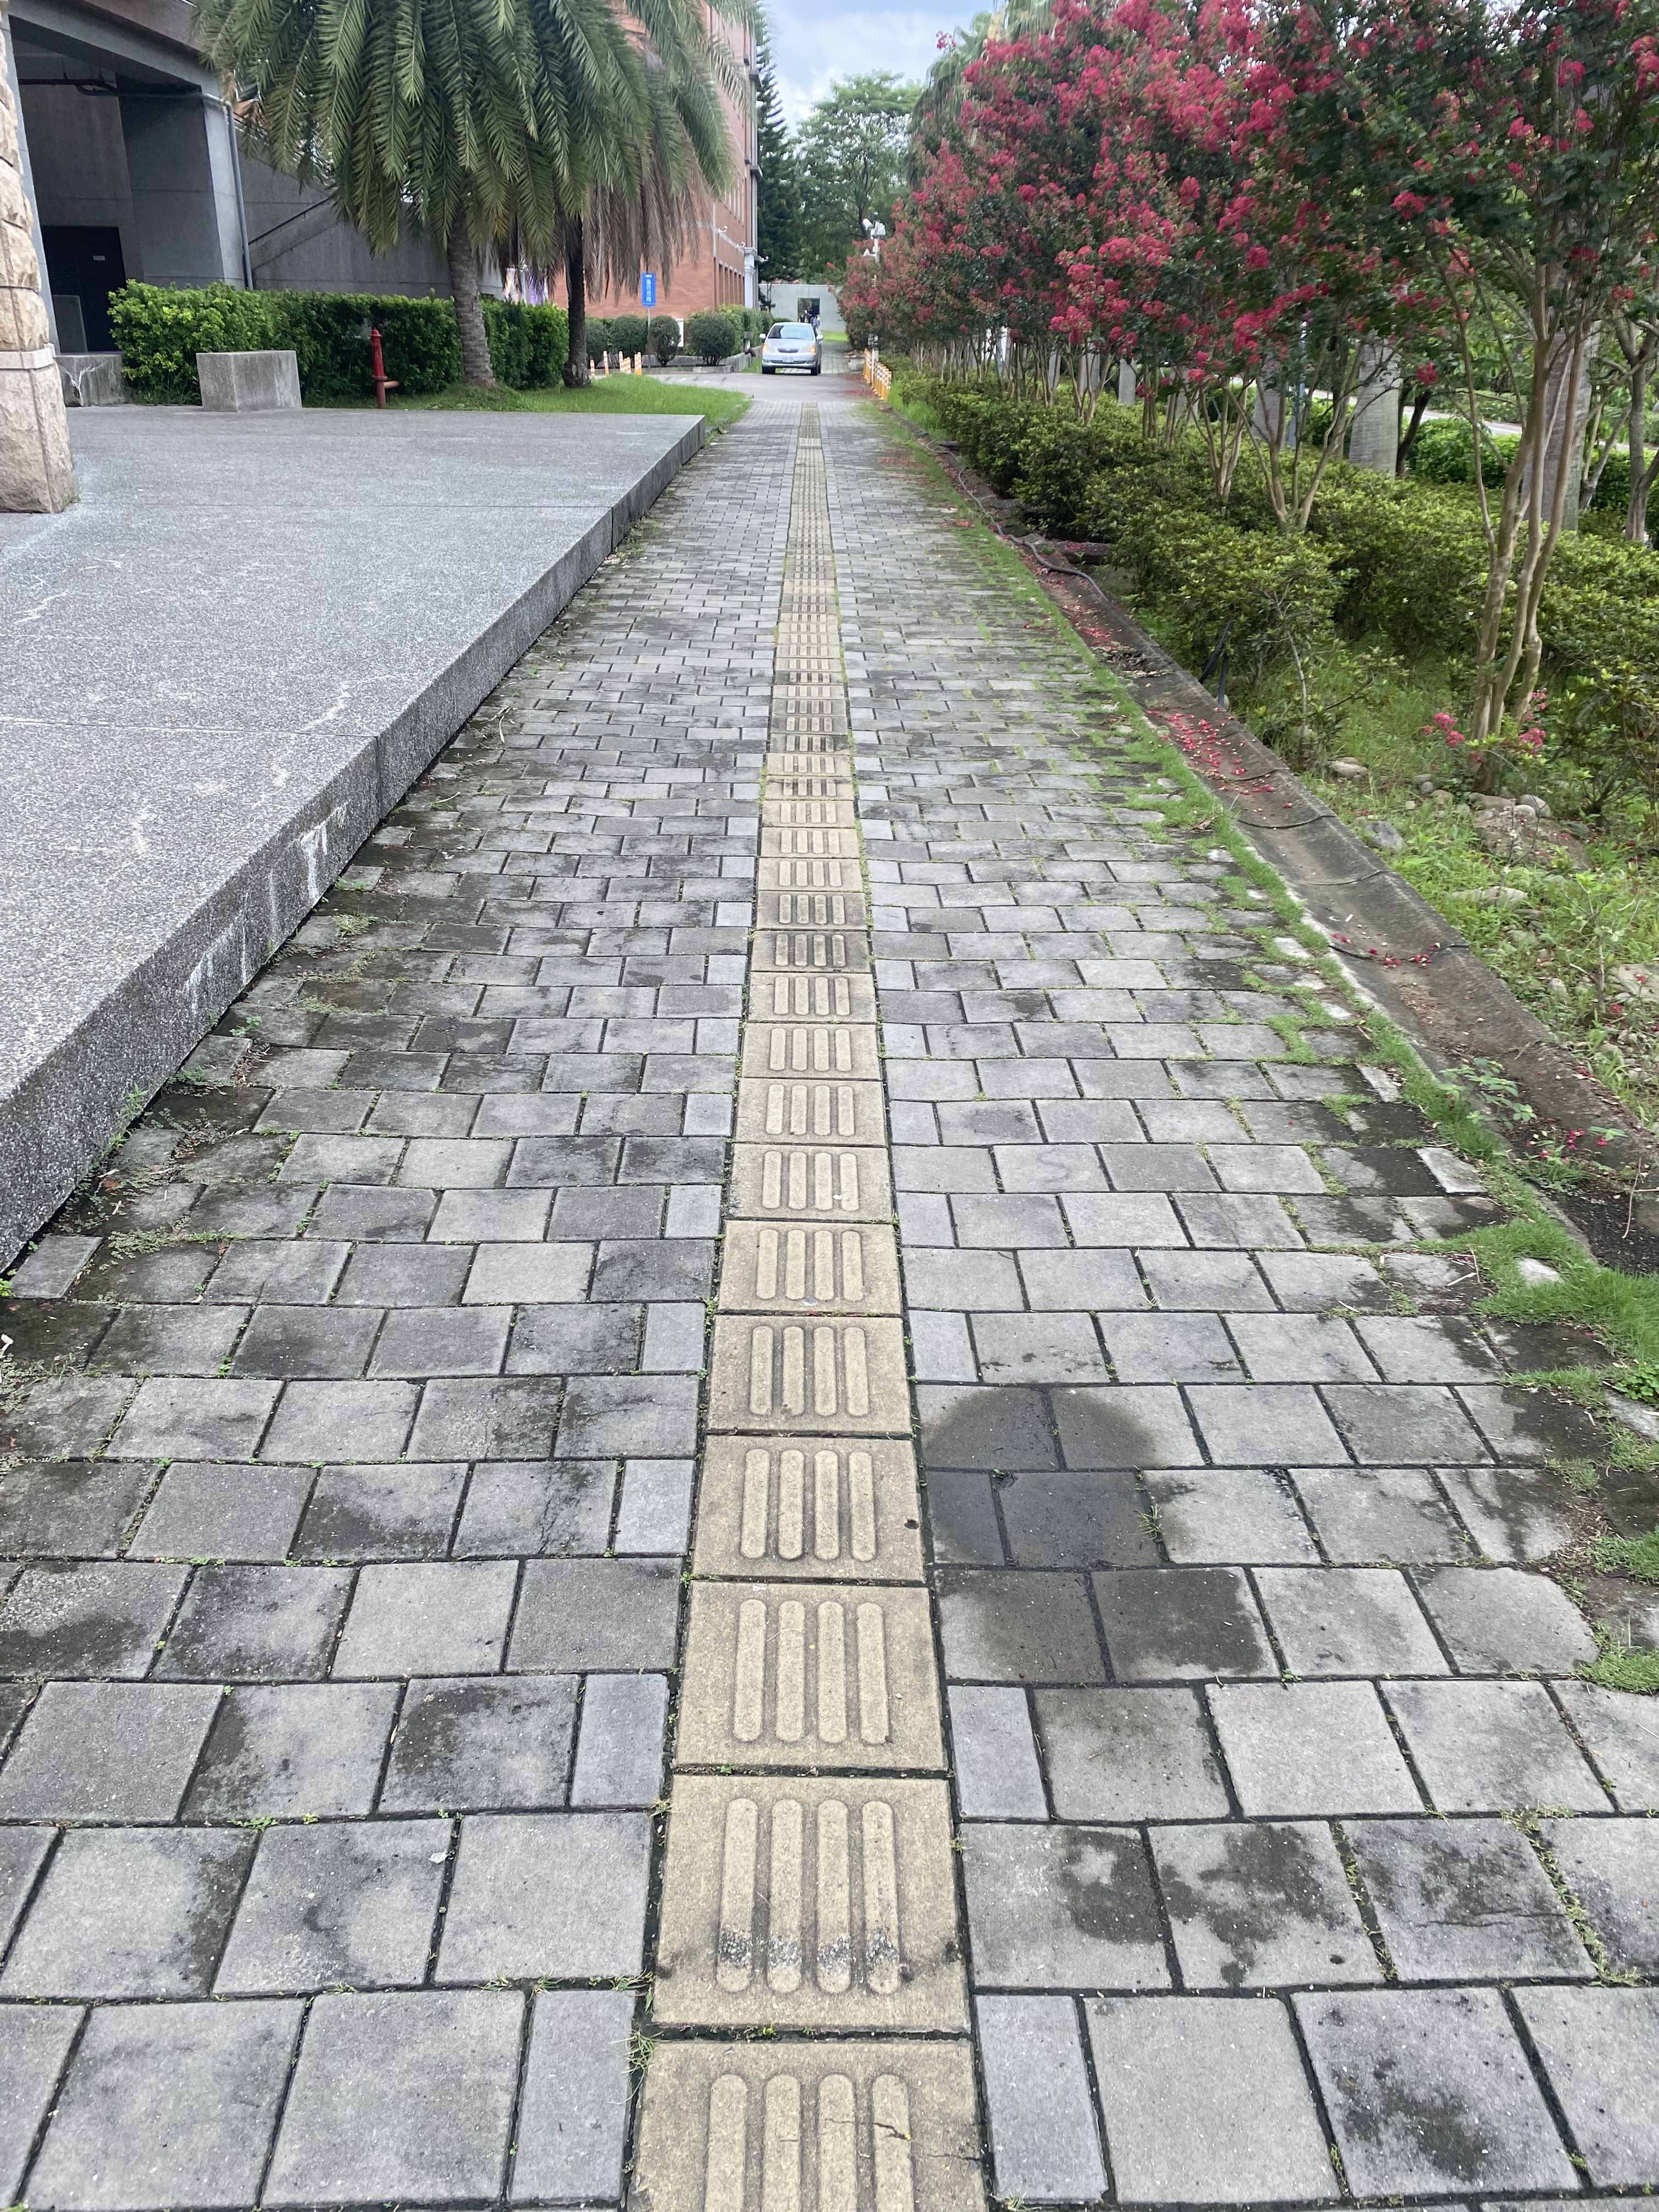0: (24, 582, 1659, 2212)
sidewalk: (606, 408, 1215, 1339)
